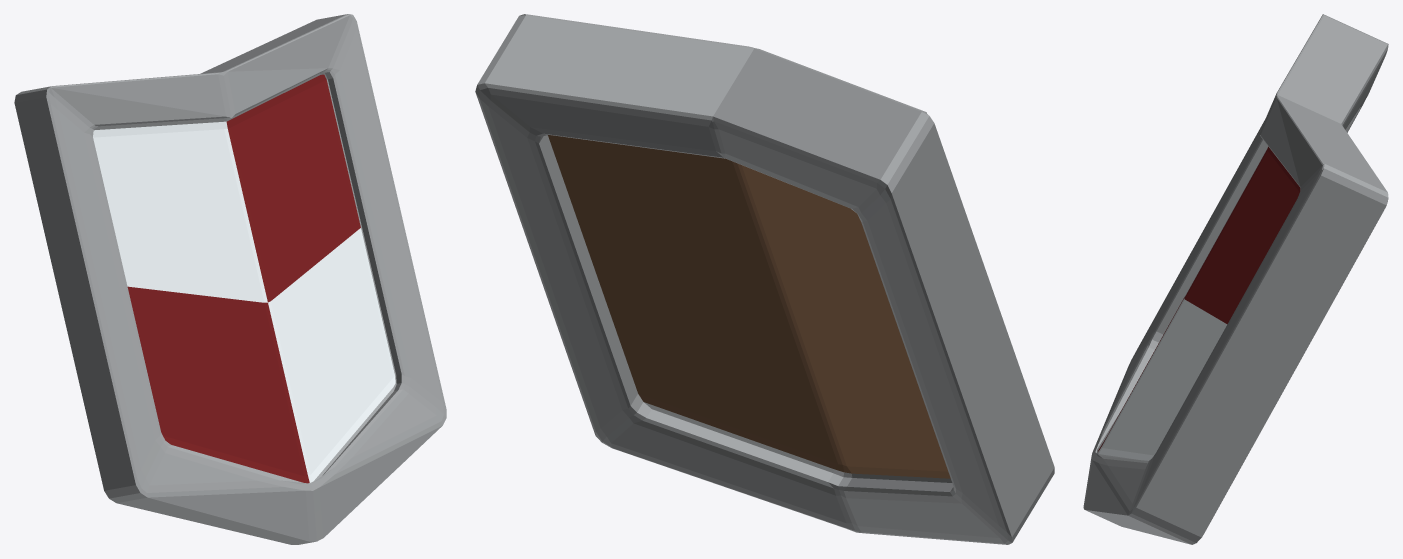
File: bs-shield-2.fbx
3 views of the same model, side by side, from view 1: azimuth 30°, elevation 25°; view 2: azimuth 150°, elevation 25°; view 3: azimuth 270°, elevation 25° (orthographic). The views are drawn at different scales.
Visible parts, largest first — view 1: Cube.207; view 2: Cube.207; view 3: Cube.207.
Part boxes in pixels (<box>): Cube.207: <box>14,14,446,544</box>; Cube.207: <box>475,14,1054,544</box>; Cube.207: <box>1083,14,1388,544</box>.
Size of the model in its own units: 111 by 145 by 92.04.
